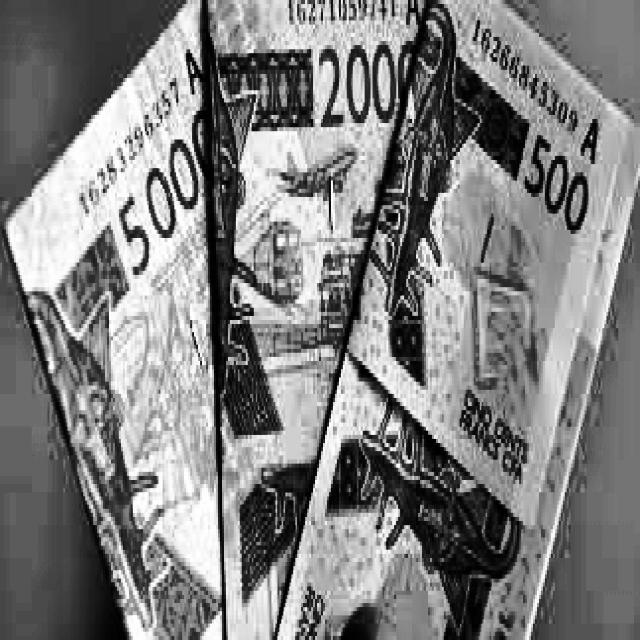junni: (8, 3, 221, 637)
nient teemeer: (209, 0, 426, 637)
teemeer: (351, 3, 636, 525), (279, 340, 595, 639)
